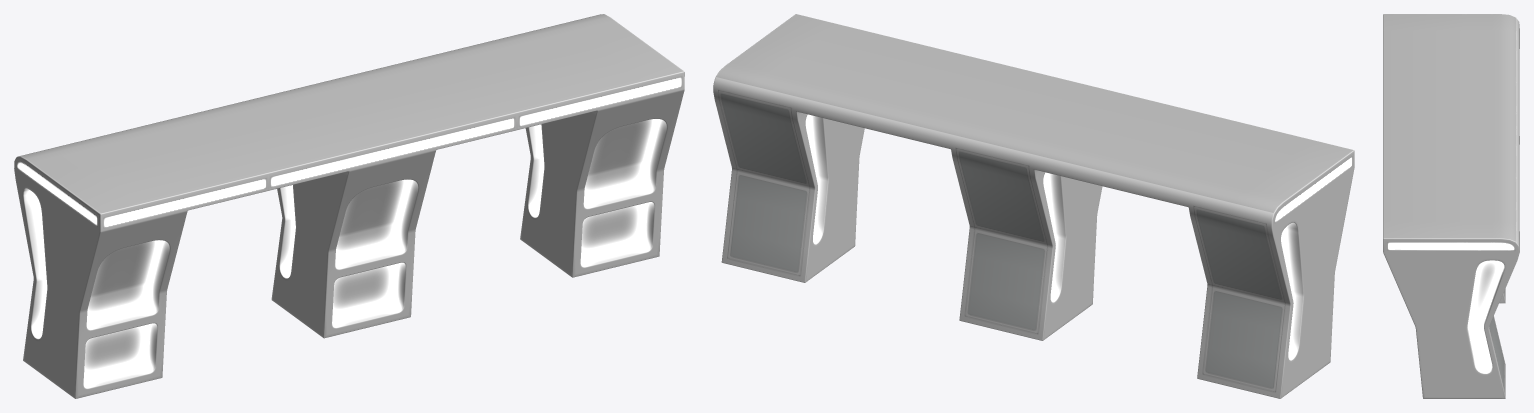
File: BarTable03_2.FBX
3 renders of one model, left to right at view 1: azimuth 30°, elevation 25°; view 2: azimuth 150°, elevation 25°; view 3: azimuth 270°, elevation 25°, orthographic. The views are drawn at different scales.
Parts seen in each view (by area): view 1: BarTable03_2; view 2: BarTable03_2; view 3: BarTable03_2.
Part boxes in pixels (x1,y1,x2,y2): BarTable03_2: (14, 14, 684, 398); BarTable03_2: (713, 14, 1354, 398); BarTable03_2: (1383, 14, 1519, 398).
Size of what is drawn, in the model's own units: 3.3 by 1.1 by 0.8487.
